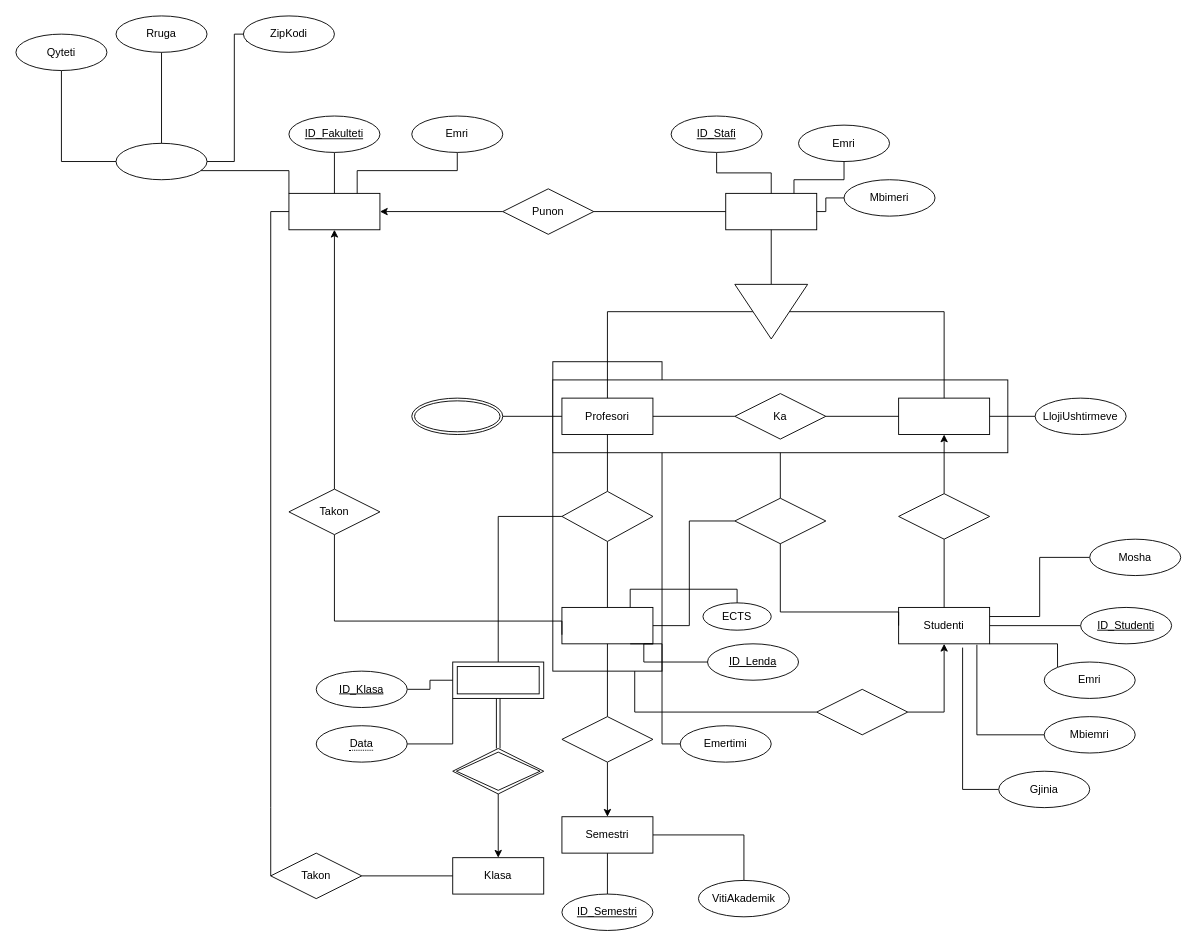
The diagram is 1197 pixels wide and 946 high, and some of its shapes have lost their labels. Here are the shapes that lost their labels. From the top down, the centre of each, then its label:
At point (161, 161): "(Adresa)".
At point (334, 211): "Fakulteti".
At point (771, 211): "StafiAkademik".
At point (771, 311): "ISA".
At point (457, 416): "Kualifikimi".
At point (944, 416): "Asistenti".
At point (607, 515): "Ligjeron".
At point (780, 520): "Konsullton".
At point (944, 516): "Kshillon".
At point (607, 625): "Lenda".
At point (498, 679): "Orari".
At point (862, 711): "Ndjek".
At point (607, 739): "Mbahen".
At point (498, 771): "Identifikon".
